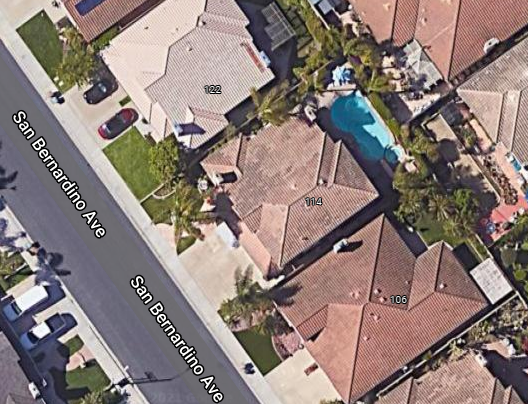poolww: (318, 89, 407, 166)
